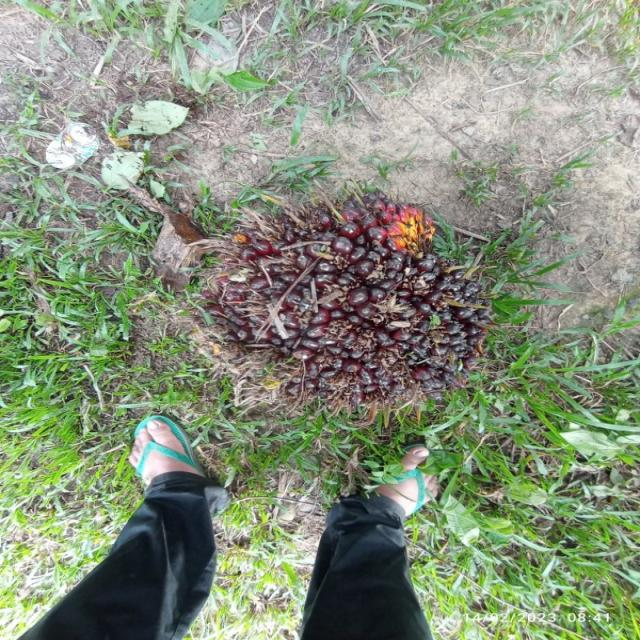fraksi 1: (190, 191, 504, 427)
